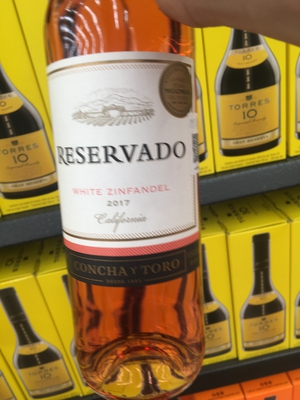reservado white zinfandel: (43, 5, 214, 399)
